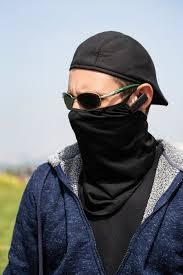cap: (66, 24, 176, 107)
scarf-kerchief: (64, 100, 160, 216)
sunglasses: (59, 91, 111, 111)
